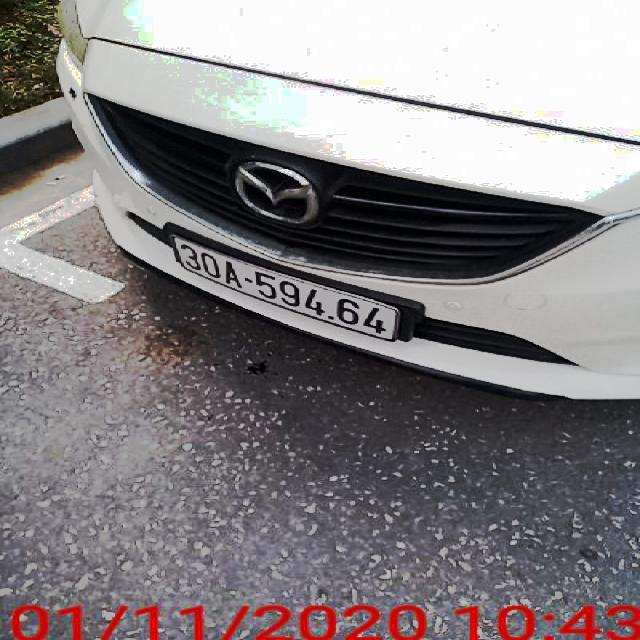license_plate: (173, 236, 401, 344)
